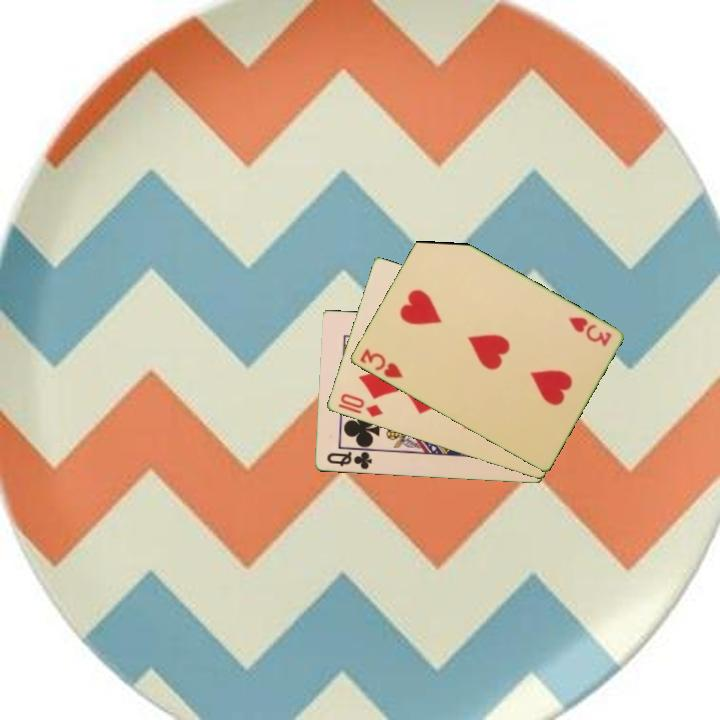10d: (336, 390, 386, 420)
3h: (356, 345, 406, 381), (564, 313, 614, 349)
Qc: (323, 448, 375, 473)
